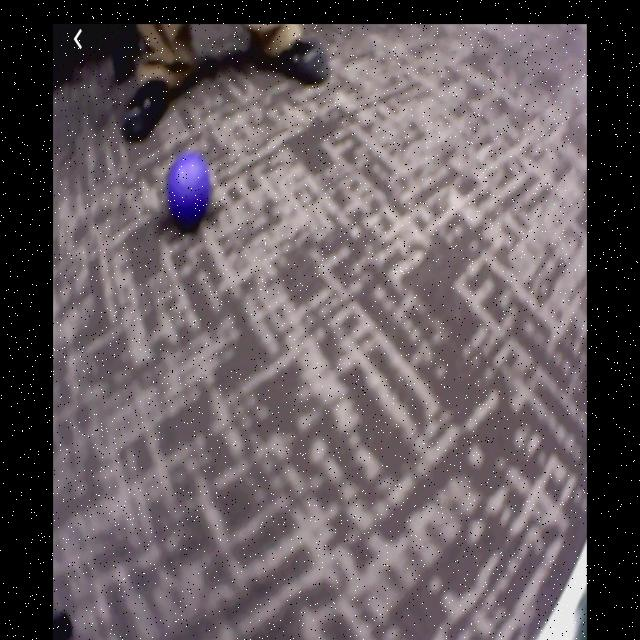ball: (168, 155, 212, 223)
